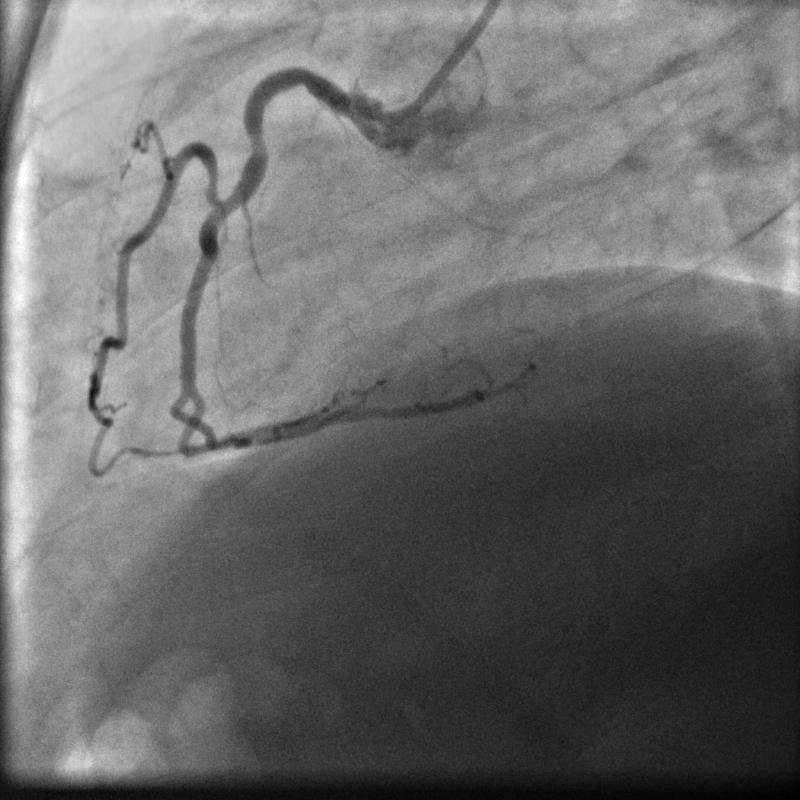Stenosis: (243, 125, 273, 161)
